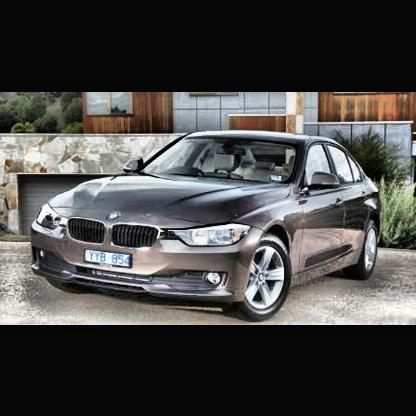BMW 3 Series Sedan 2012: (29, 129, 383, 324)
